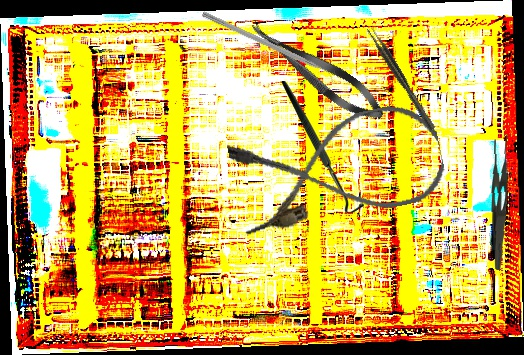Cannula: (225, 97, 451, 239)
Chopper: (198, 11, 339, 86)
Dressing Forceps: (487, 133, 517, 271)
Hook Surgical: (281, 81, 365, 213)
Micro Scissor: (243, 12, 391, 130)
Tissue Forceps: (365, 25, 436, 133)
